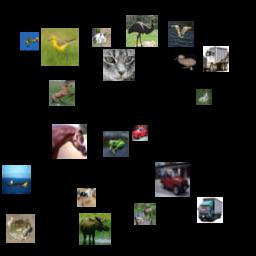airplane: (20, 32, 39, 51)
automobile: (155, 162, 190, 197), (132, 125, 148, 141)
bird: (41, 28, 79, 66), (126, 15, 158, 47), (168, 21, 194, 47), (174, 51, 196, 73)
cat: (103, 49, 135, 81), (92, 28, 111, 47), (196, 89, 212, 105)
deer: (79, 213, 111, 245), (134, 203, 156, 225)
dog: (77, 188, 96, 207)
frog: (6, 214, 35, 243), (103, 131, 129, 157)
ship: (2, 165, 31, 194)
truck: (197, 197, 223, 223), (203, 46, 229, 72)
